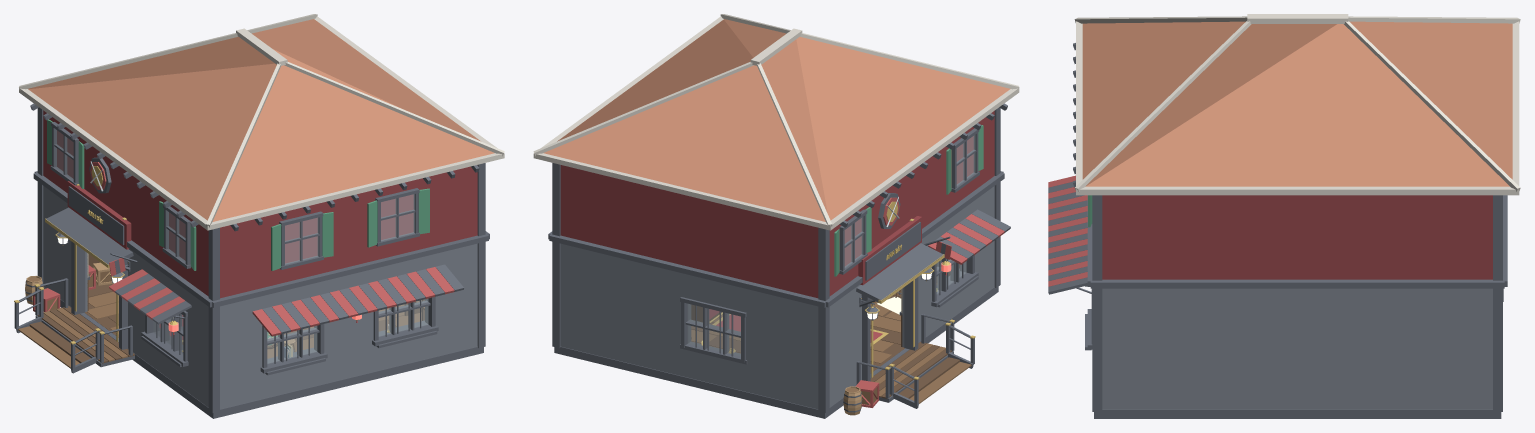
The model's file is LP_Shop_AnhBay.fbx.
The picture shows the model from 3 angles, left to right: view 1: azimuth 30°, elevation 25°; view 2: azimuth 150°, elevation 25°; view 3: azimuth 270°, elevation 25°; orthographic projection. The views are drawn at different scales.
Parts seen in each view (by area): view 1: Roof_HipBody, Wall_South_F2, Wall_West_F2, Roof_EaveBelt, Wall_South_W, Wall_South_E, Wall_South_Mid, BasePlinth, BeltTrim_S, FrontPier_N, FrontPier_S, CornerPost_-4.4_-4.9 (+34 smaller); view 2: Roof_HipBody, Wall_North_F2, Wall_North_F1_NE, Wall_North_F1_NW, Wall_West_F2, Roof_EaveBelt, BasePlinth, FrontPier_N, BeltTrim_N, CornerPost_-4.4_4.9, DoorHood_Roof, Wall_North_WinBot (+24 smaller); view 3: Roof_HipBody, Wall_Back_F1, Wall_Back_F2, Roof_EaveBelt, BeltTrim_E, BasePlinth, CornerPost_4.4_-4.9, CornerPost_4.4_4.9, Roof_HipRib_4.9_-5.4, Roof_HipRib_4.9_5.4, Roof_HipRib_-4.9_-5.4, Roof_HipRib_-4.9_5.4 (+2 smaller).
Boxes of the visible parts, x1=… form: Roof_HipBody: x1=28, y1=19, x2=494, y2=221; Wall_South_F2: x1=220, y1=165, x2=477, y2=298; Wall_West_F2: x1=43, y1=110, x2=208, y2=296; Roof_EaveBelt: x1=19, y1=16, x2=504, y2=230; Wall_South_W: x1=220, y1=296, x2=263, y2=409; Wall_South_E: x1=432, y1=243, x2=477, y2=357; Wall_South_Mid: x1=321, y1=268, x2=375, y2=384; BasePlinth: x1=43, y1=287, x2=483, y2=418; BeltTrim_S: x1=211, y1=233, x2=488, y2=307; FrontPier_N: x1=43, y1=186, x2=87, y2=311; FrontPier_S: x1=186, y1=291, x2=208, y2=407; CornerPost_-4.4_-4.9: x1=208, y1=227, x2=219, y2=412; Roof_HipBody: x1=543, y1=19, x2=1010, y2=221; Wall_North_F2: x1=560, y1=165, x2=818, y2=298; Wall_North_F1_NE: x1=560, y1=243, x2=683, y2=376; Wall_North_F1_NW: x1=744, y1=288, x2=818, y2=409; Wall_West_F2: x1=829, y1=111, x2=994, y2=296; Roof_EaveBelt: x1=533, y1=16, x2=1019, y2=230; BasePlinth: x1=554, y1=286, x2=998, y2=418; FrontPier_N: x1=829, y1=284, x2=861, y2=407; BeltTrim_N: x1=549, y1=234, x2=827, y2=307; CornerPost_-4.4_4.9: x1=818, y1=227, x2=829, y2=412; DoorHood_Roof: x1=856, y1=243, x2=943, y2=303; Wall_North_WinBot: x1=684, y1=349, x2=744, y2=391; Roof_HipBody: x1=1082, y1=21, x2=1512, y2=186; Wall_Back_F1: x1=1102, y1=288, x2=1492, y2=409; Wall_Back_F2: x1=1102, y1=195, x2=1492, y2=279; Roof_EaveBelt: x1=1076, y1=21, x2=1519, y2=195; BeltTrim_E: x1=1090, y1=279, x2=1504, y2=288; BasePlinth: x1=1094, y1=409, x2=1501, y2=418; CornerPost_4.4_-4.9: x1=1092, y1=195, x2=1102, y2=411; CornerPost_4.4_4.9: x1=1493, y1=195, x2=1502, y2=411; Roof_HipRib_4.9_-5.4: x1=1075, y1=21, x2=1251, y2=191; Roof_HipRib_4.9_5.4: x1=1344, y1=21, x2=1520, y2=191; Roof_HipRib_-4.9_-5.4: x1=1074, y1=16, x2=1247, y2=23; Roof_HipRib_-4.9_5.4: x1=1348, y1=16, x2=1520, y2=23.
Size of the model in its own units: 11.43 by 8.85 by 11.6.
